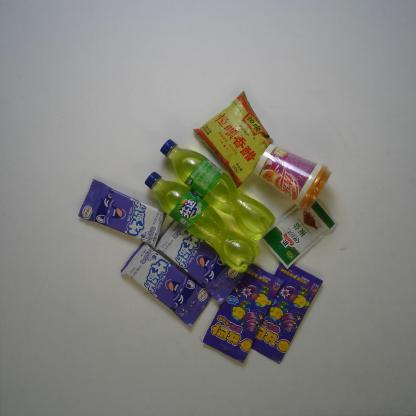Candy: (200, 259, 285, 365), (118, 240, 214, 329), (153, 216, 247, 305), (250, 256, 324, 366), (76, 177, 168, 250)
Drink: (158, 138, 276, 242), (142, 171, 261, 274)
Instant Drink: (252, 142, 334, 212)
Seasoner: (192, 89, 276, 191), (260, 195, 340, 271)
